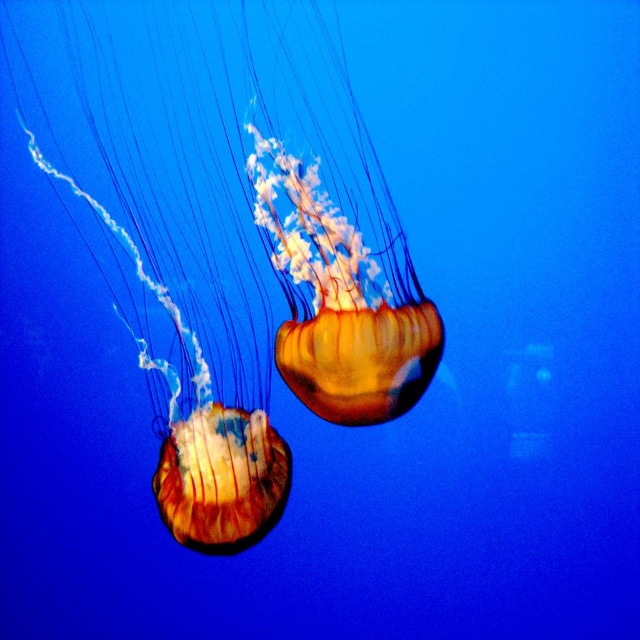Jellyfish: (0, 0, 294, 558), (270, 0, 445, 426)
